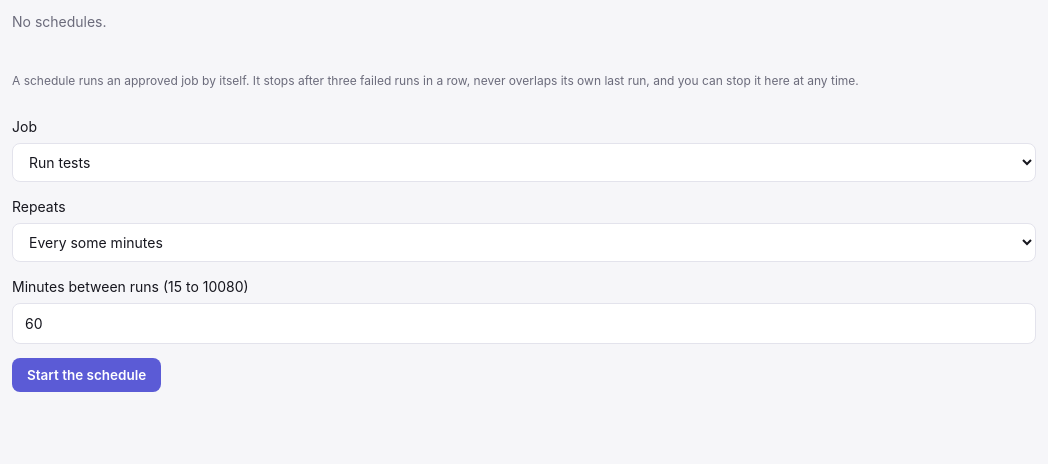
Scenario: starting a schedule › shows what the API says when schedules are off
This screenshot has width=1048, height=464.
Click the button "Start the schedule" at coordinates (87, 375), box [12, 358, 161, 392]
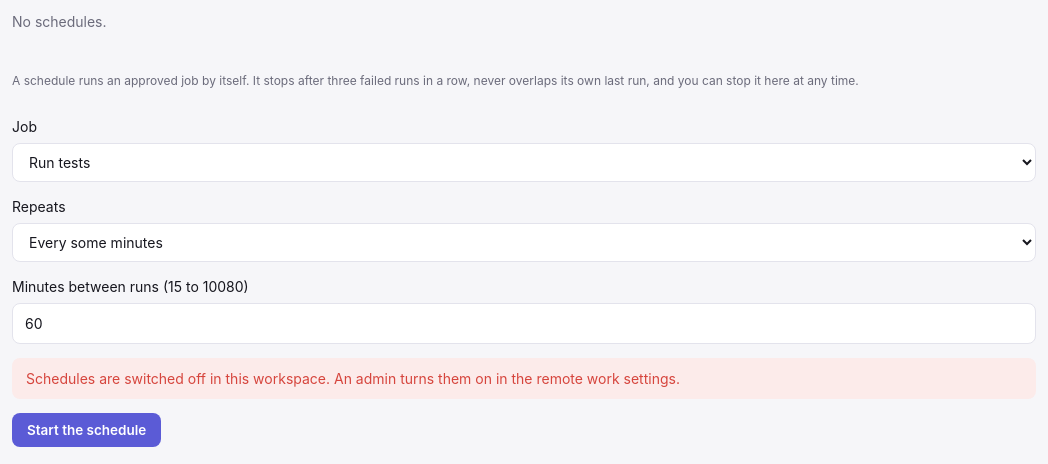
Now the text "Schedules are switched off in this workspace. An admin turns them on in the remote work settings." is shown, box [26, 370, 680, 387]
